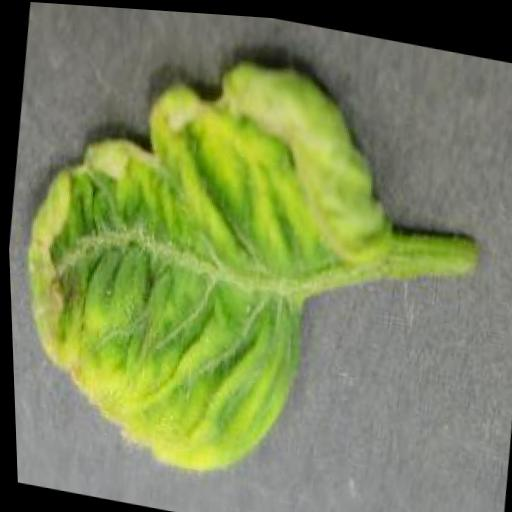Yellow Leaf Curl Virus: (0, 15, 419, 501)
